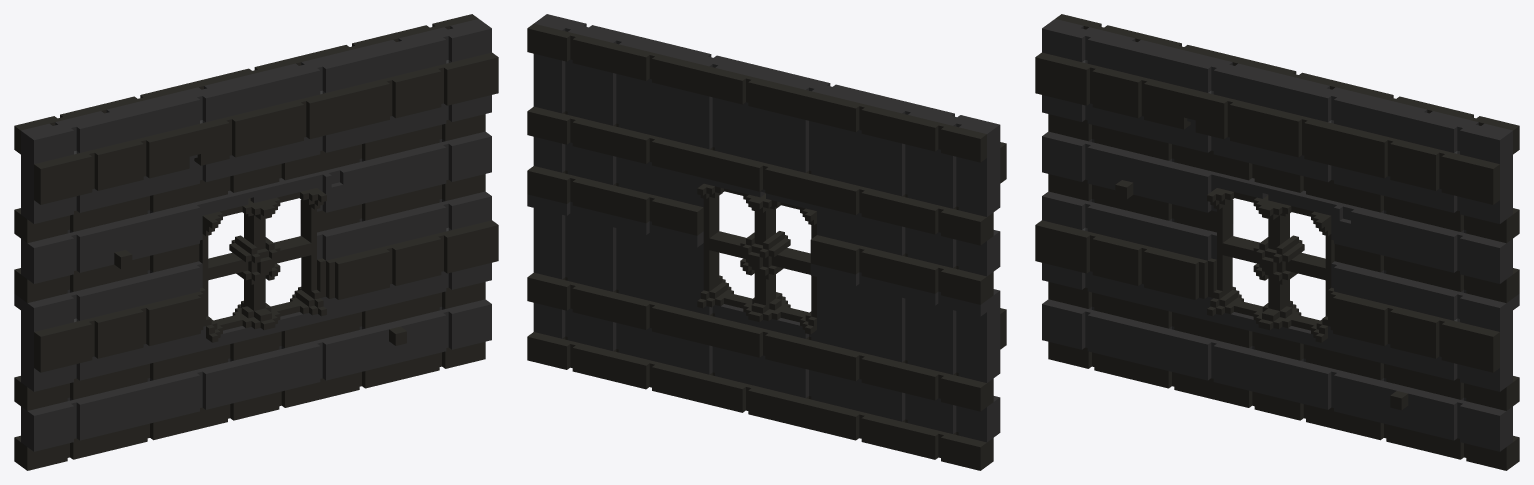
The model's file is WallWindowFrameStone.obj.
The picture shows the model from 3 angles, left to right: view 1: azimuth 30°, elevation 25°; view 2: azimuth 150°, elevation 25°; view 3: azimuth 330°, elevation 25°; orthographic projection.
Size of the model in its own units: 8 by 5.6 by 0.8.
1 material, 1 textured.
